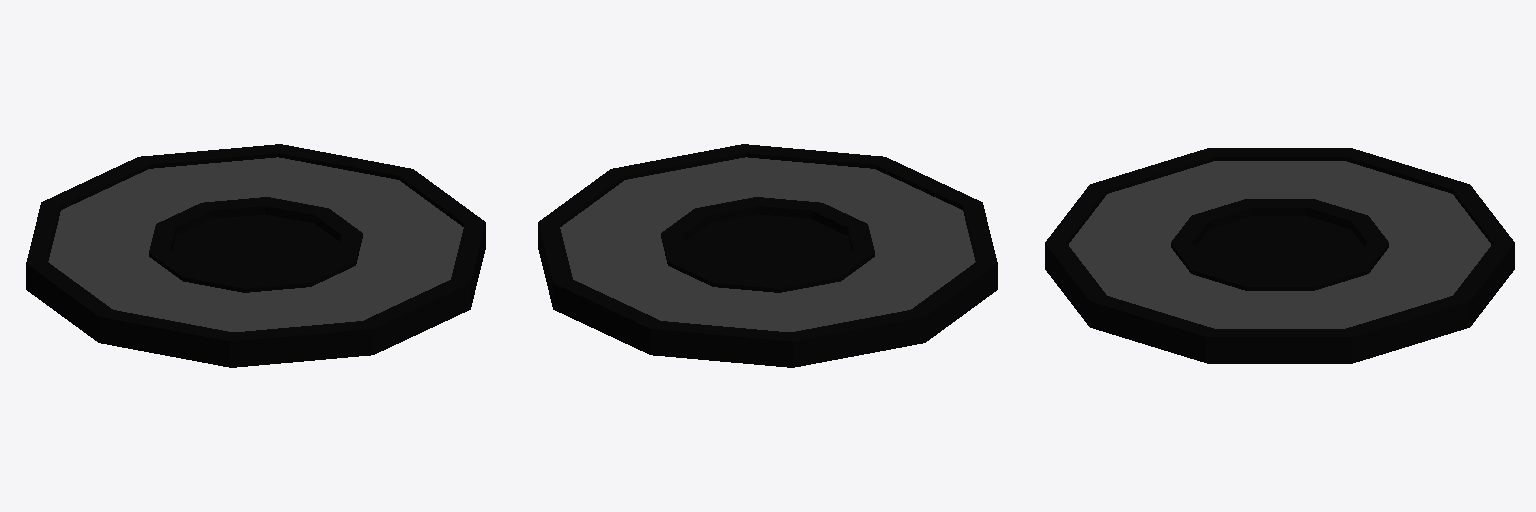
File: Manhole_cover_01.obj
3 renders of one model, left to right at view 1: azimuth 30°, elevation 25°; view 2: azimuth 150°, elevation 25°; view 3: azimuth 270°, elevation 25°, orthographic.
Visible parts, largest first — view 1: Manhole_cover_01_Cylinder.002; view 2: Manhole_cover_01_Cylinder.002; view 3: Manhole_cover_01_Cylinder.002.
Boxes of the visible parts, x1=… form: Manhole_cover_01_Cylinder.002: x1=26, y1=144, x2=485, y2=367; Manhole_cover_01_Cylinder.002: x1=538, y1=144, x2=997, y2=367; Manhole_cover_01_Cylinder.002: x1=1045, y1=148, x2=1514, y2=363.
Size of the model in its own units: 4.63 by 0.3013 by 4.86.